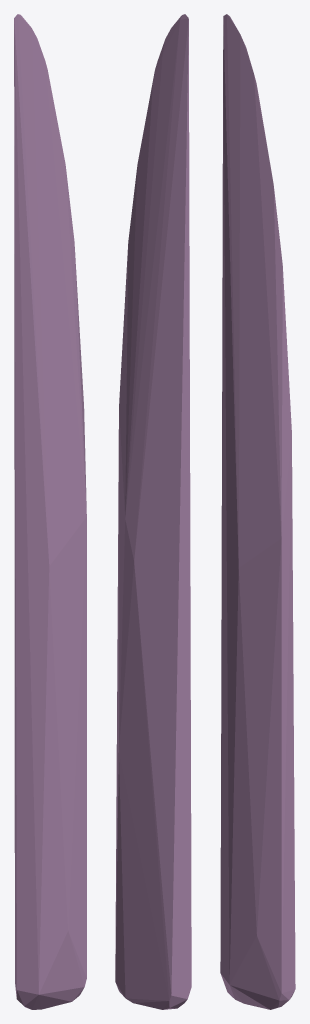
Rendered from kitchenware_knife_k01.glb.
The picture shows the model from 3 angles, left to right: view 1: azimuth 30°, elevation 25°; view 2: azimuth 150°, elevation 25°; view 3: azimuth 330°, elevation 25°; orthographic projection.
Visible parts, largest first — view 1: geometry_0; view 2: geometry_0; view 3: geometry_0.
Boxes of the visible parts, left/top/right/bottom form: geometry_0: left=14, top=14, right=86, bottom=1009; geometry_0: left=115, top=14, right=191, bottom=1009; geometry_0: left=220, top=14, right=295, bottom=1009.
Bounding box in the file's own units: 0.0351 × 0.4797 × 0.0173.
